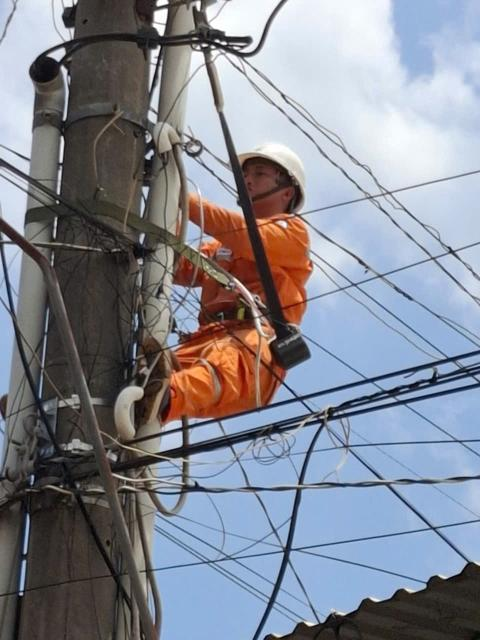harness: (181, 263, 295, 341)
helmet: (233, 119, 329, 213)
